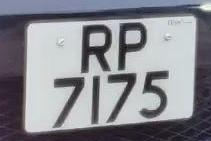1: (86, 73, 109, 128)
5: (135, 66, 172, 120)
7: (44, 72, 89, 132), (103, 70, 140, 127)
P: (113, 18, 151, 73)
R: (77, 21, 115, 76)
